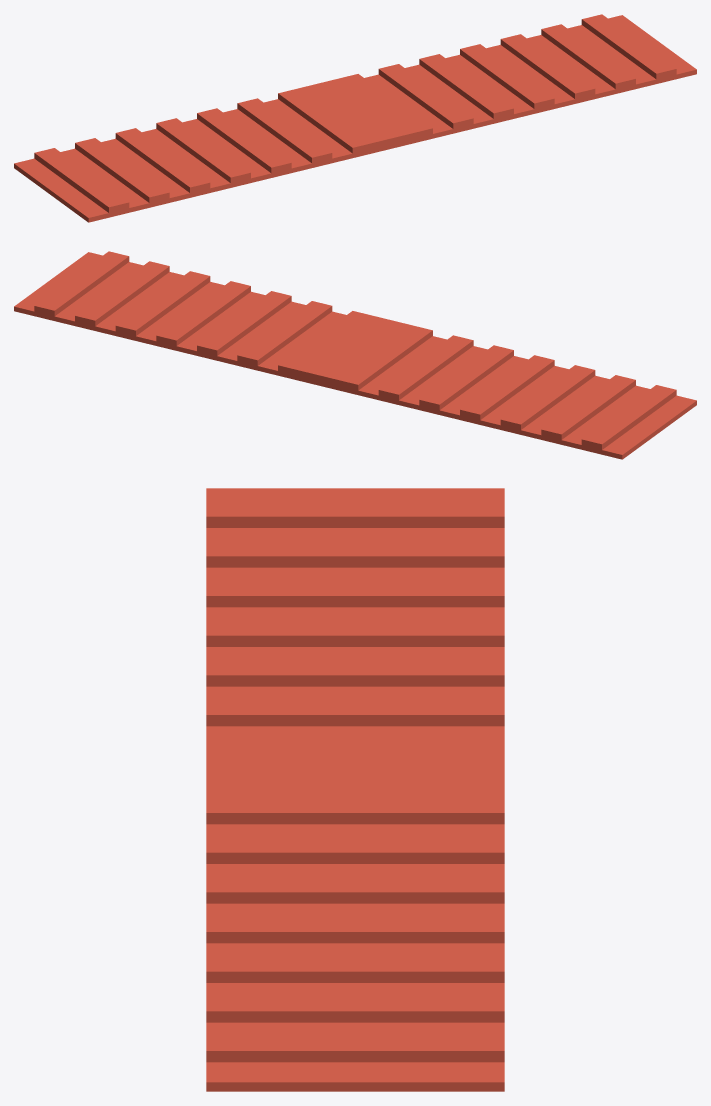
File: Bridge1.fbx
The picture shows the model from 3 angles, top to bottom: view 1: azimuth 30°, elevation 25°; view 2: azimuth 150°, elevation 25°; view 3: azimuth 270°, elevation 25°; orthographic projection. The views are drawn at different scales.
Parts seen in each view (by area): view 1: Cube; view 2: Cube; view 3: Cube.
Part boxes in pixels (x1,y1,x2,y2): Cube: (14, 14, 696, 222); Cube: (14, 251, 696, 459); Cube: (206, 488, 504, 1091).
Bounding box in the file's own units: 2840 × 46.3 × 603.
